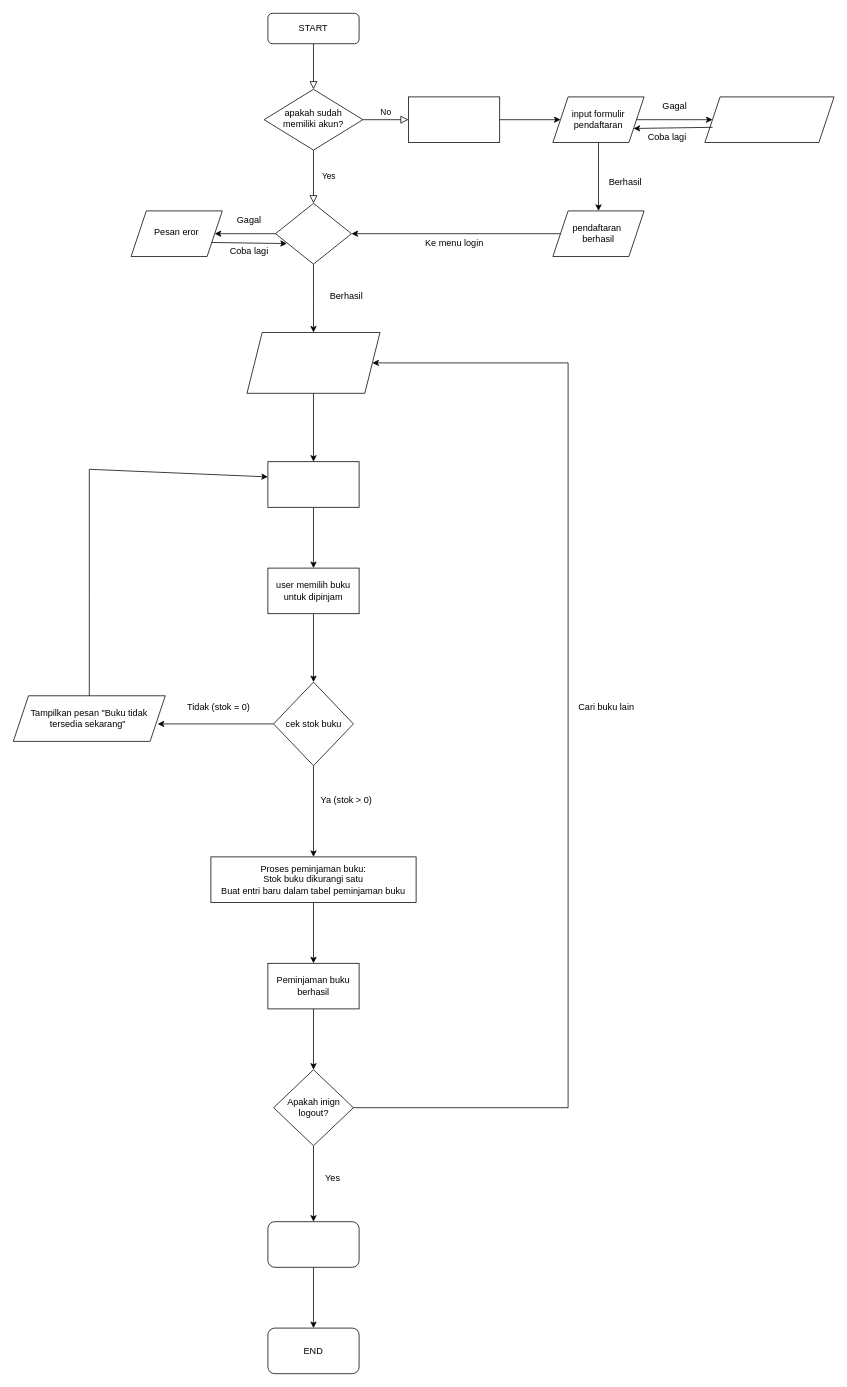
Image size: 847x1387. Some labels were removed from this diagram. Each missing label, with the centre of its shape:
cari buku (judul, penulis kategori): (313,362)
create account: (454,119)
daftar buku ditampilkan: (313,484)
LOGIN: (313,233)
LOGOUT: (313,1244)
Muncul pesan "Pendaftaran Gagal": (769,119)
